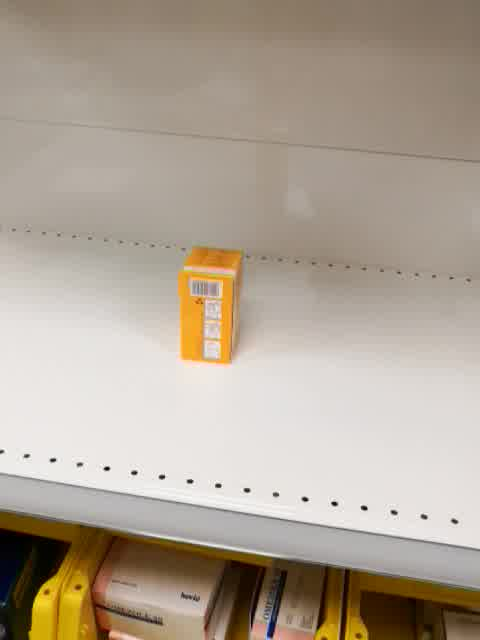jasminetea: (178, 246, 243, 365)
